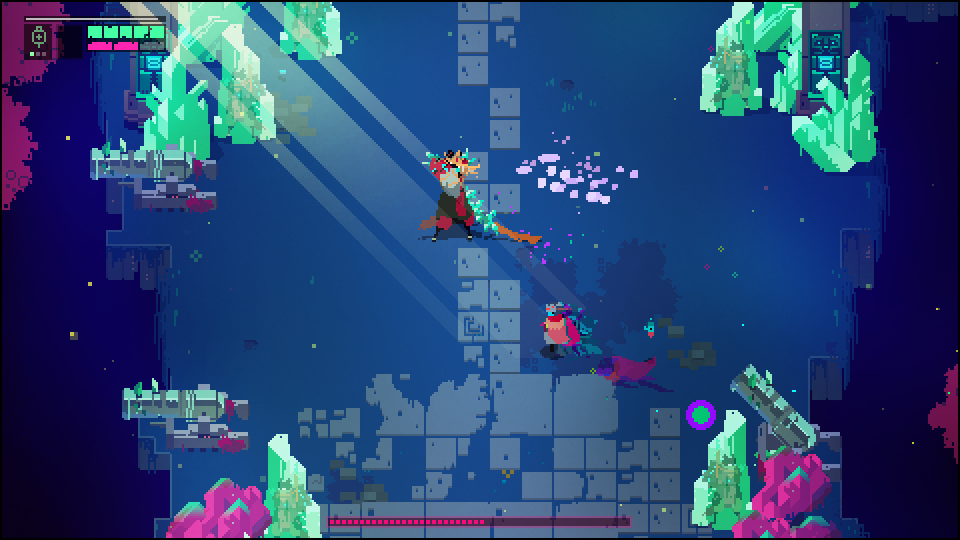hanged_man: (414, 149, 517, 246)
hanged_shot: (685, 396, 719, 436)
player: (538, 300, 572, 356)
